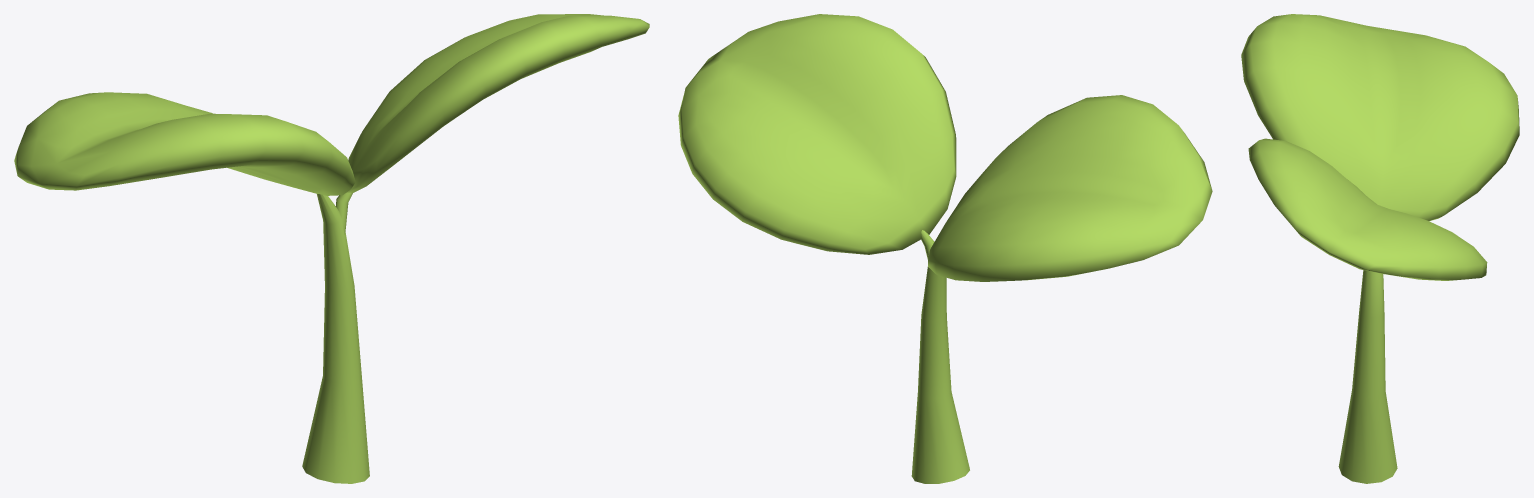
File: Sprout 1.fbx
The picture shows the model from 3 angles, left to right: view 1: azimuth 30°, elevation 25°; view 2: azimuth 150°, elevation 25°; view 3: azimuth 270°, elevation 25°; orthographic projection. The views are drawn at different scales.
Visible parts, largest first — view 1: Leaf.191, Leaf.192, NurbsPath; view 2: Leaf.192, Leaf.191, NurbsPath; view 3: Leaf.191, Leaf.192, NurbsPath.
Part boxes in pixels (box(x1,y1,x2,y2)): Leaf.191: box(14, 92, 355, 195); Leaf.192: box(347, 14, 649, 192); NurbsPath: box(302, 194, 369, 483); Leaf.192: box(678, 14, 956, 254); Leaf.191: box(928, 95, 1212, 281); NurbsPath: box(911, 267, 969, 483); Leaf.191: box(1241, 14, 1519, 221); Leaf.192: box(1248, 138, 1487, 280); NurbsPath: box(1338, 270, 1397, 483).
Size of the model in its own units: 0.3351 by 0.1577 by 0.2416.
